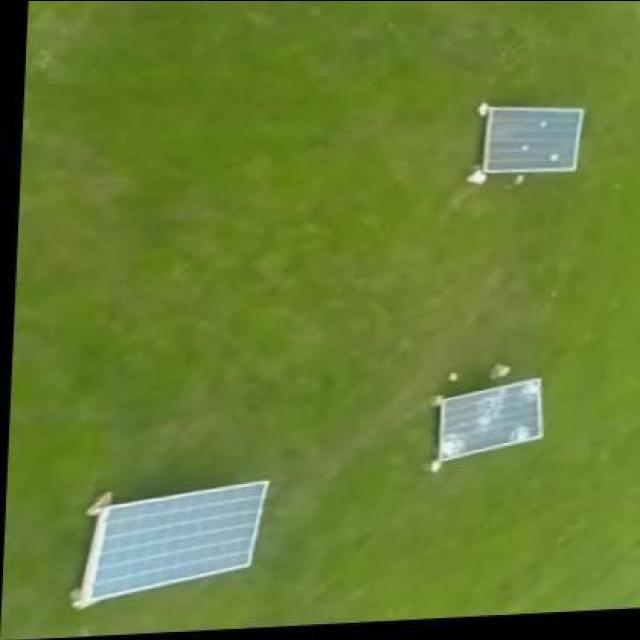cracked: (428, 376, 546, 464)
soiled: (471, 100, 588, 180)
